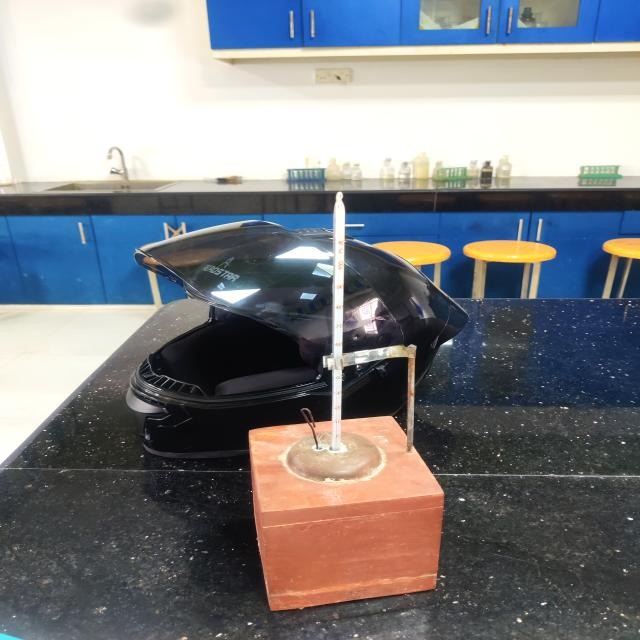Calorimeter: (215, 173, 480, 637)
